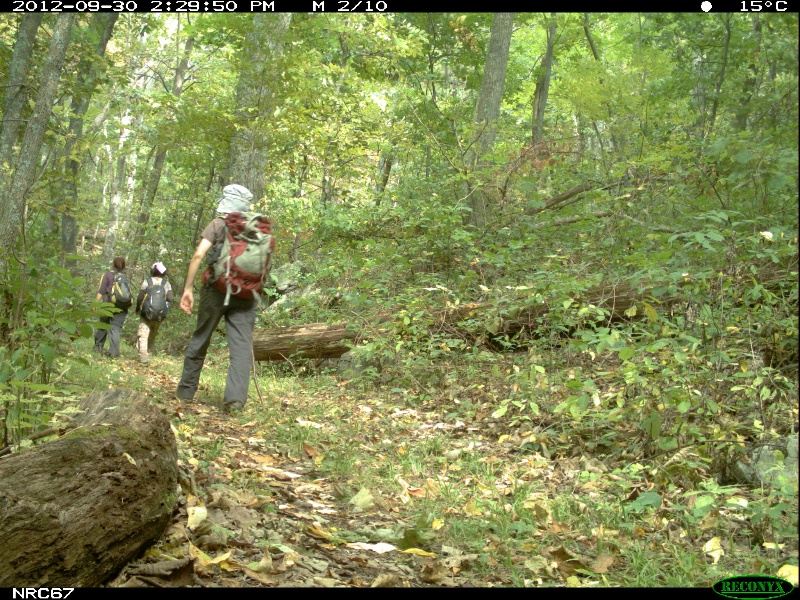human: (175, 186, 272, 415), (93, 254, 129, 364), (137, 262, 171, 364)
human legs: (176, 282, 257, 415), (89, 299, 129, 366), (133, 306, 164, 366)
